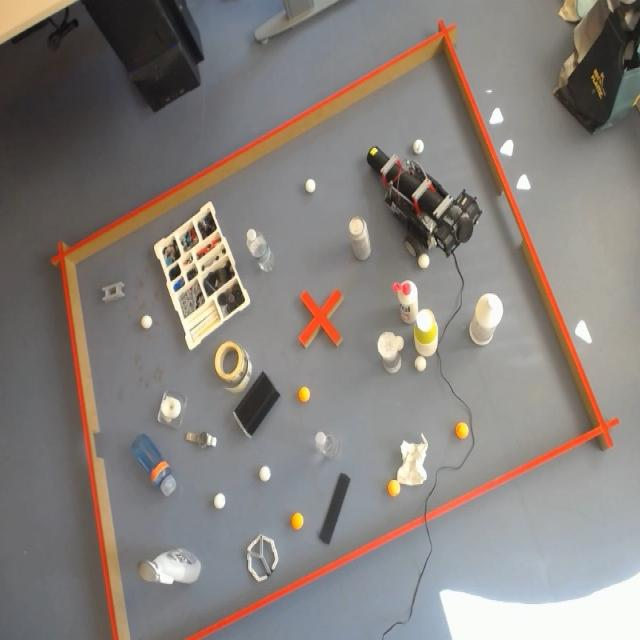orange: (454, 420, 471, 440), (291, 513, 304, 530), (387, 480, 400, 496), (298, 386, 310, 402)
robot: (366, 147, 482, 260)
robot-front: (367, 146, 388, 172)
white: (414, 355, 427, 372), (214, 494, 226, 509), (418, 254, 430, 267), (260, 466, 270, 481), (414, 139, 424, 153), (395, 336, 404, 351), (306, 179, 316, 192), (142, 316, 152, 328)
